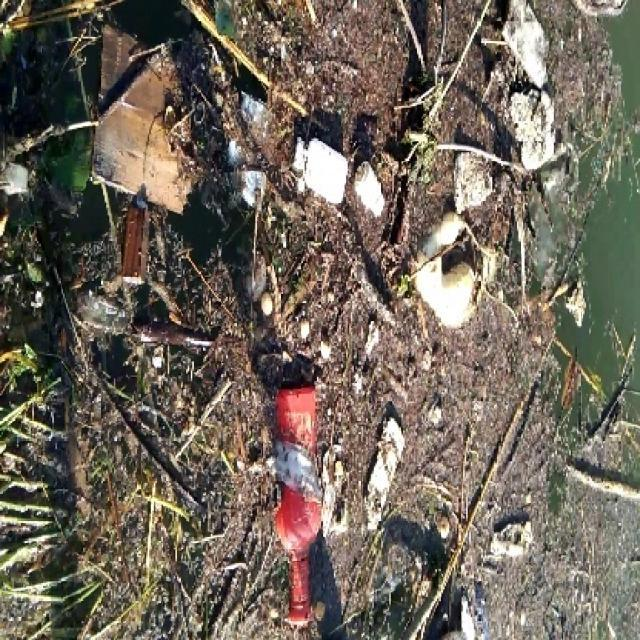Plastic: (269, 373, 330, 631)
Trash: (81, 15, 207, 209), (493, 0, 551, 83), (288, 134, 351, 208)
